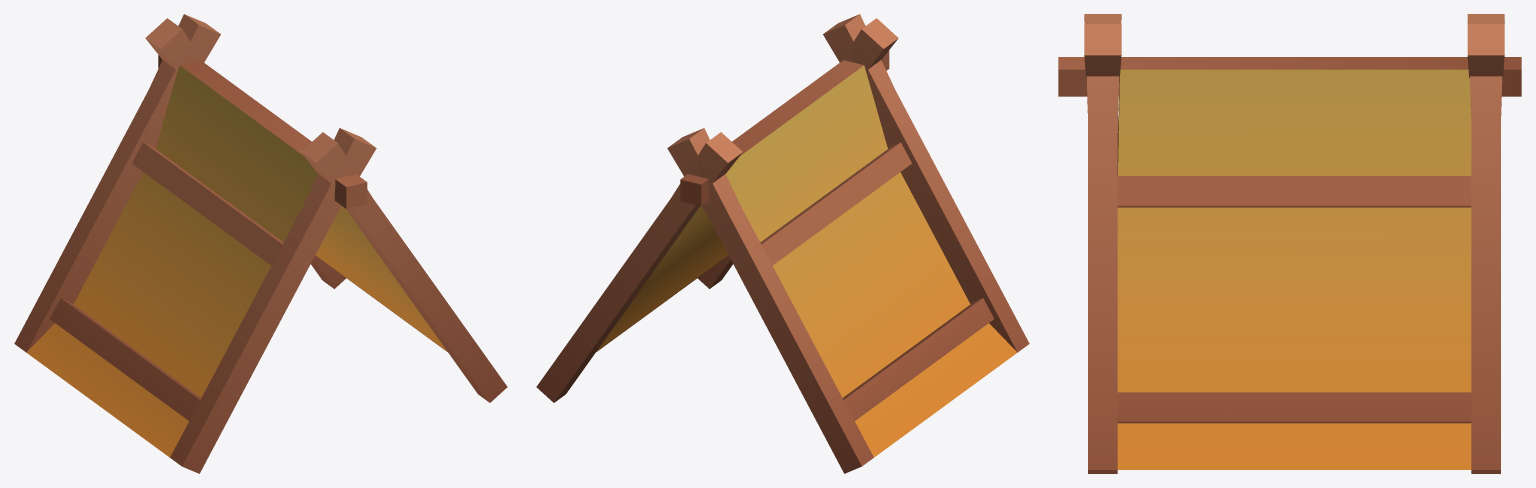
The model's file is canvas-tent.glb.
3 renders of one model, left to right at view 1: azimuth 30°, elevation 25°; view 2: azimuth 150°, elevation 25°; view 3: azimuth 270°, elevation 25°, orthographic. The views are drawn at different scales.
Visible parts, largest first — view 1: tent-canvas; view 2: tent-canvas; view 3: tent-canvas.
Boxes of the visible parts, bbox=[...] form: tent-canvas: bbox=[14, 14, 507, 473]; tent-canvas: bbox=[536, 14, 1029, 473]; tent-canvas: bbox=[1058, 14, 1521, 473].
Bounding box in the file's own units: 0.5608 × 0.4914 × 0.561.
